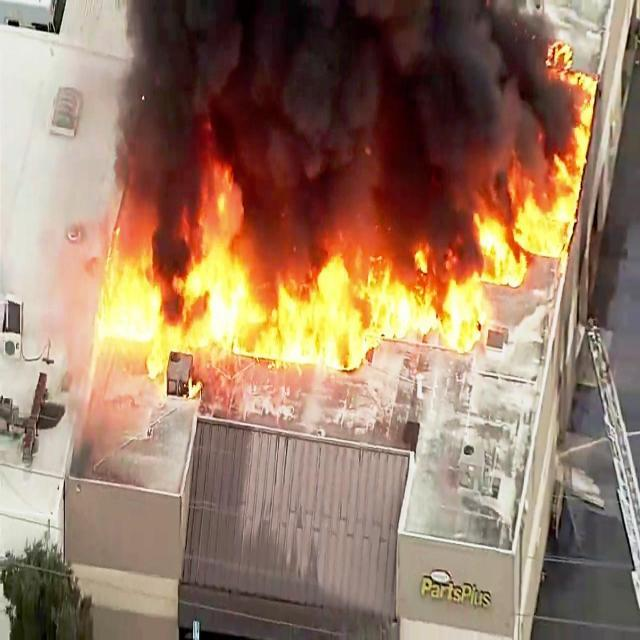Fire: (92, 230, 485, 364), (477, 197, 564, 289), (568, 56, 601, 226)
Smoke: (117, 0, 567, 222)
